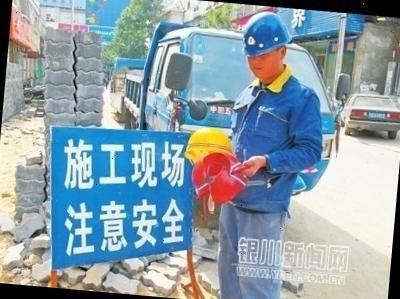helmet: (190, 149, 250, 204), (243, 10, 293, 61), (183, 124, 236, 160)
wear: (230, 86, 312, 209)
